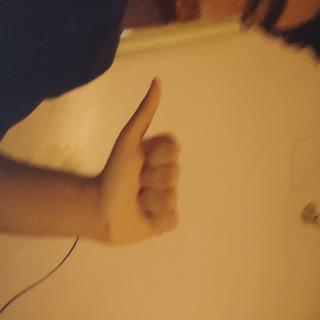DAD: (60, 178, 188, 308)
